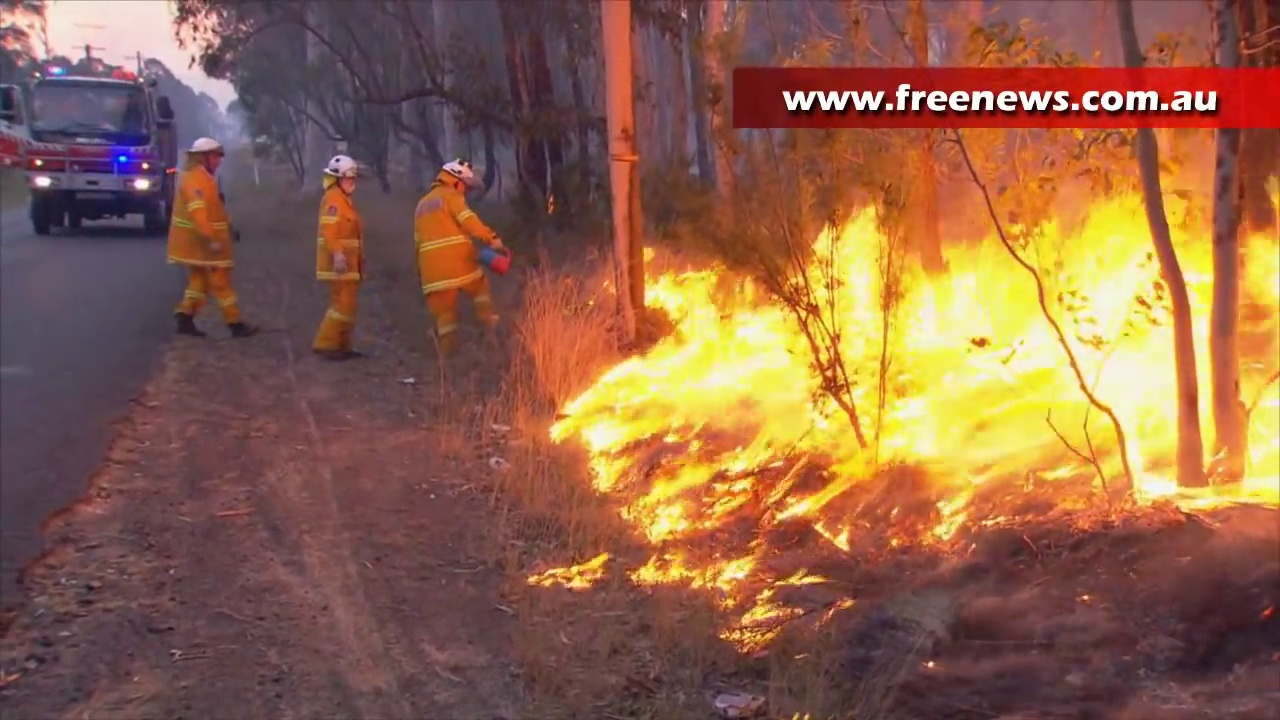fire: (544, 184, 1280, 541), (635, 549, 801, 649), (525, 554, 610, 591)
